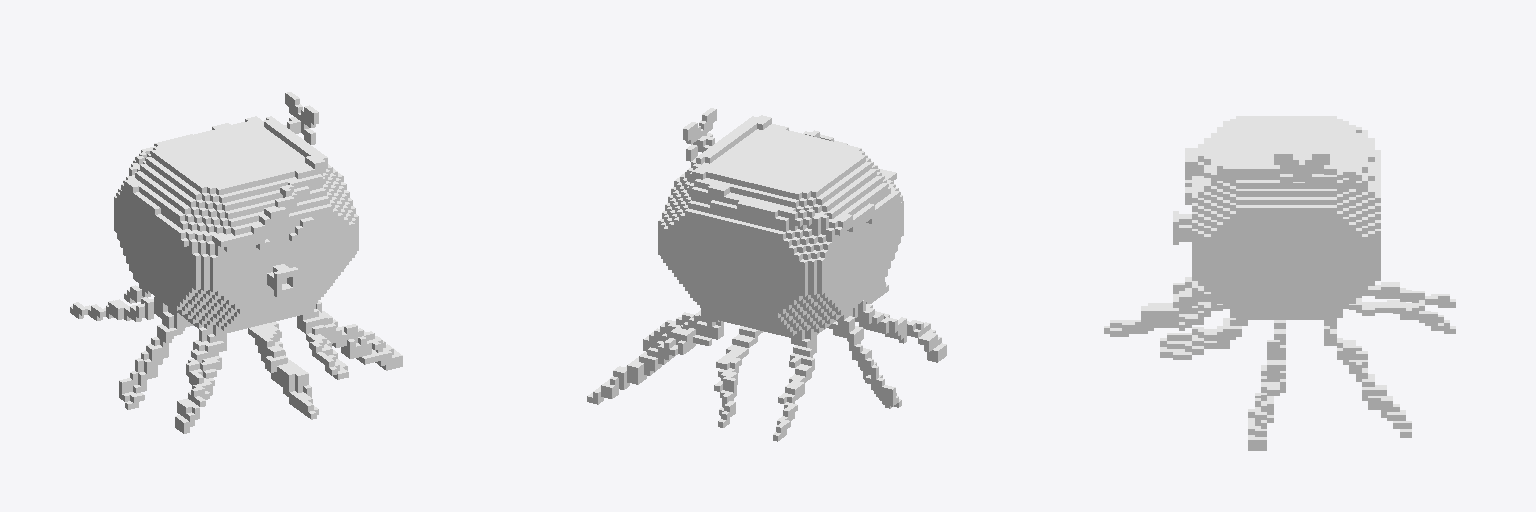
The model's file is tako2.obj.
3 renders of one model, left to right at view 1: azimuth 30°, elevation 25°; view 2: azimuth 150°, elevation 25°; view 3: azimuth 270°, elevation 25°, orthographic.
Parts seen in each view (by area): view 1: object 1; view 2: object 1; view 3: object 1.
Part boxes in pixels (left/top/right/bottom): object 1: left=70, top=92, right=402, bottom=433; object 1: left=587, top=108, right=946, bottom=441; object 1: left=1104, top=116, right=1455, bottom=450.
Bounding box in the file's own units: 4.8 × 4.6 × 5.6.